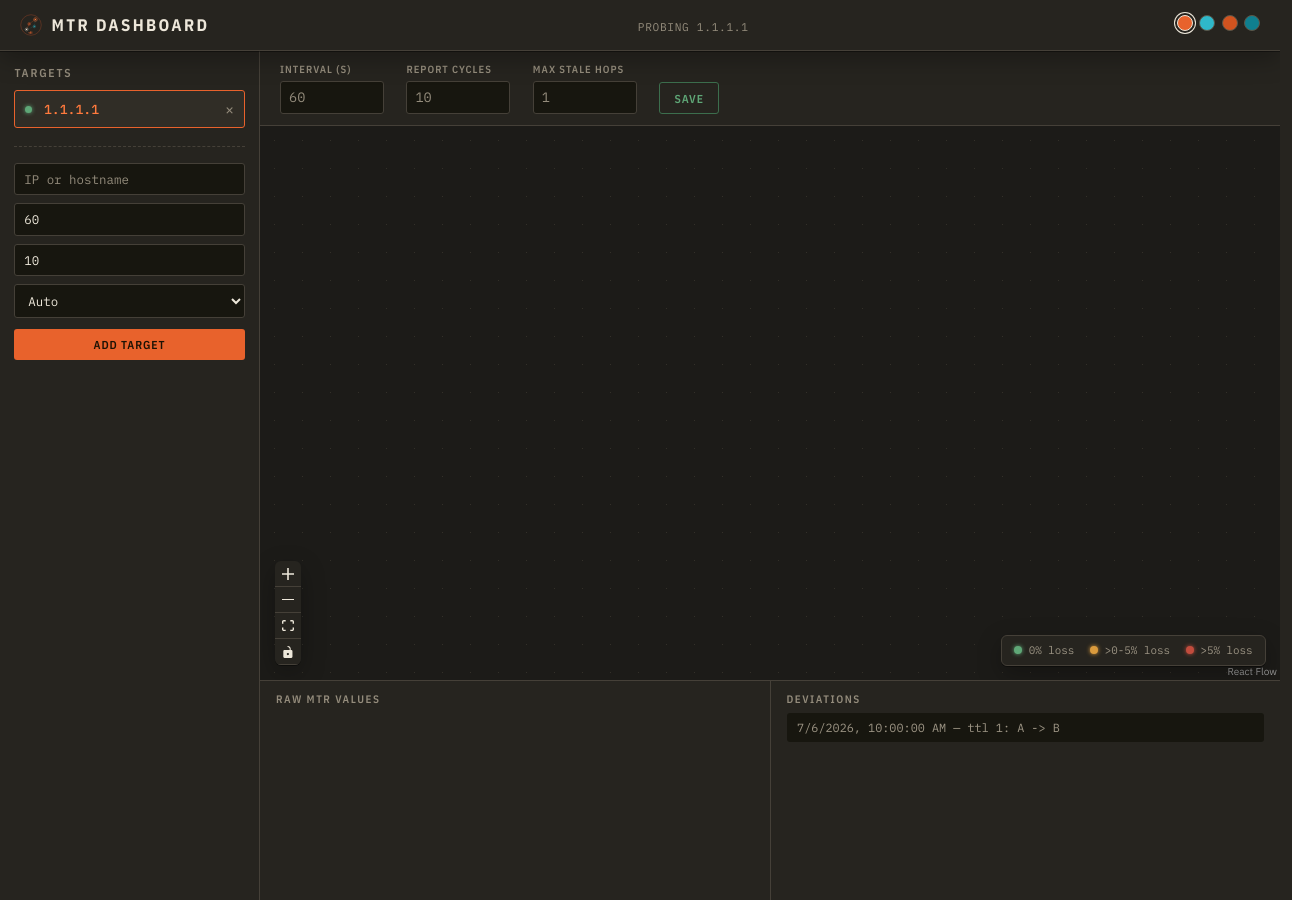
Test: App › scrubs to a historical point in time when a deviation is clicked and can return to live
Click the button "7/6/2026, 10:00:00 AM — ttl 1: A -> B" at (1025, 728), box [786,713,1264,742]
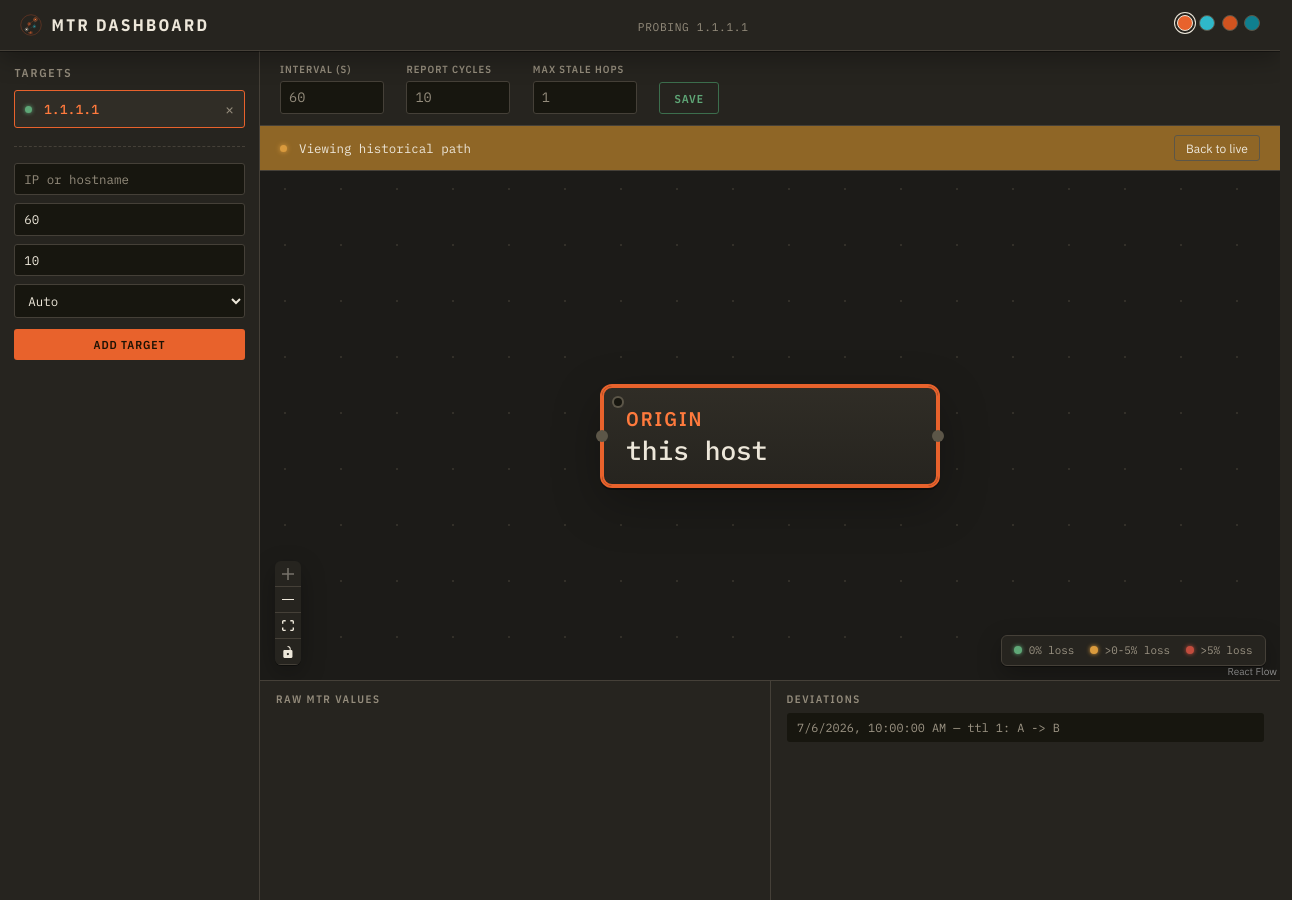
Expected: the button "Back to live" is shown, [1174,135,1260,161]
